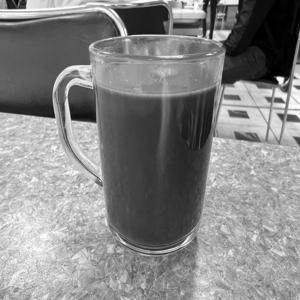coffee: (72, 23, 228, 252)
